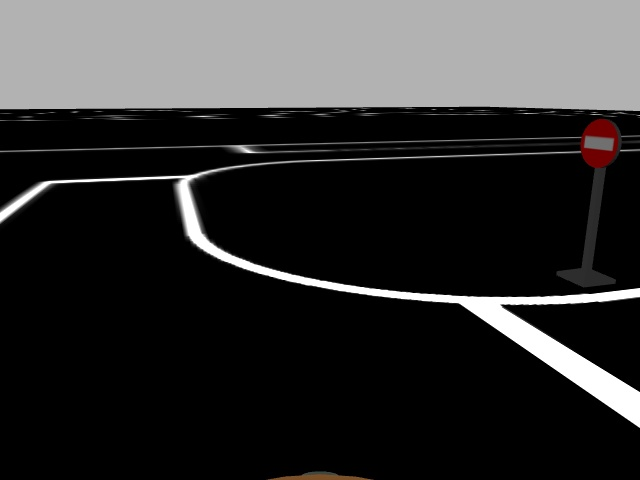prohibited: (578, 117, 622, 170)
